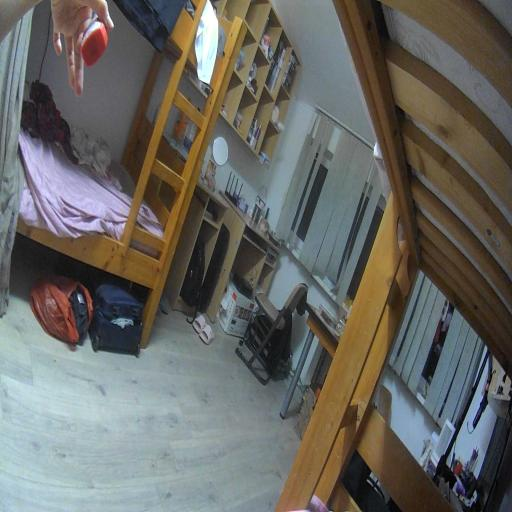Super Glue: (79, 20, 108, 70)
